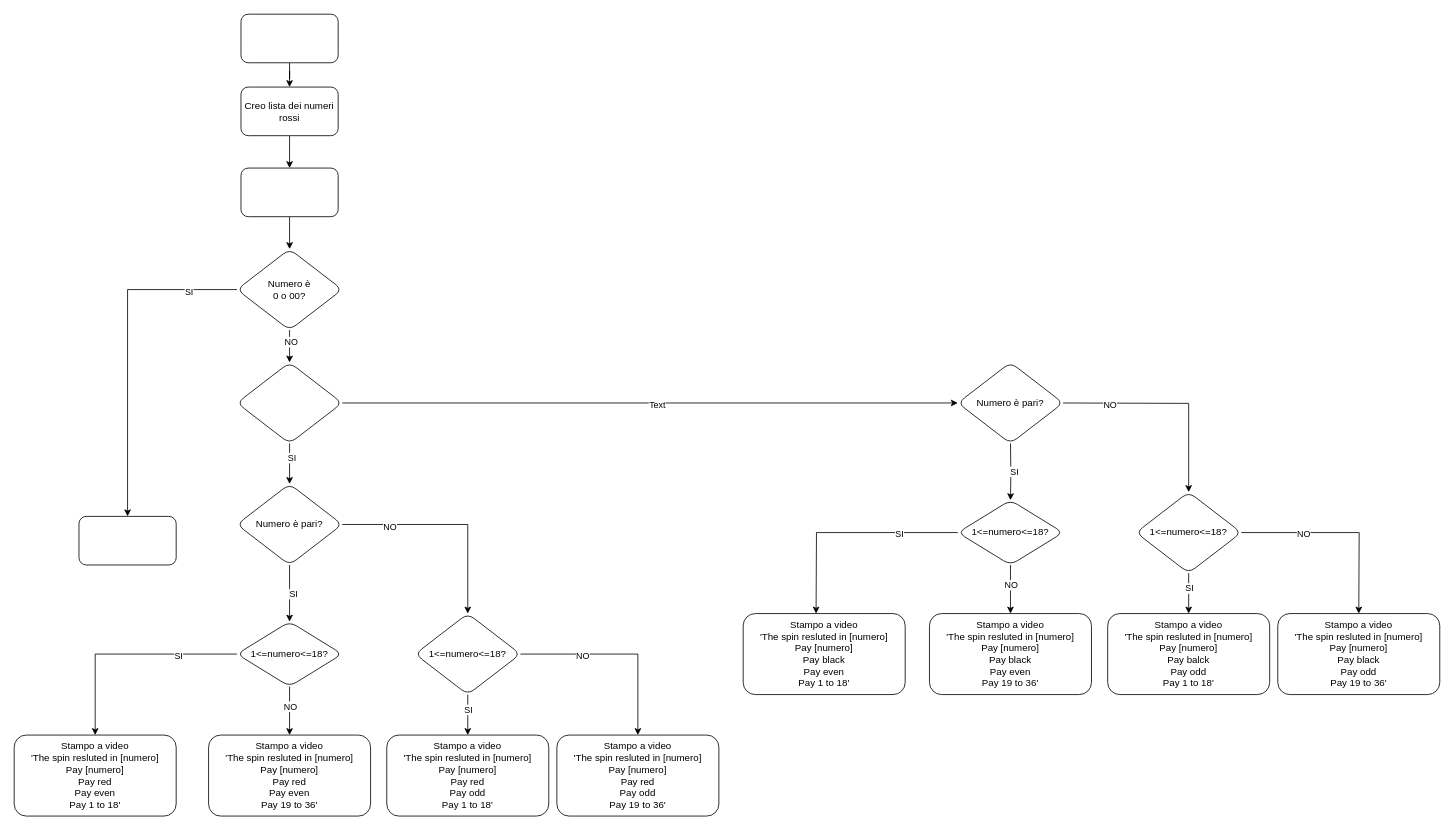
Some shapes in this 1454 by 830 pixel diagram are drawn without their labels. The shapes that lost their labels are listed below. From the top down, each one's centre as x and y in pixels, then its label:
At point (289, 38): "Creo lista di numeri da 0 a 36 e aggiungo in testa 00".
At point (289, 192): "Genero numero casuale".
At point (289, 402): "Numero è in lista rossi?".
At point (127, 540): "Stampo a video 'Pay 0' o 'Pay 00'".
